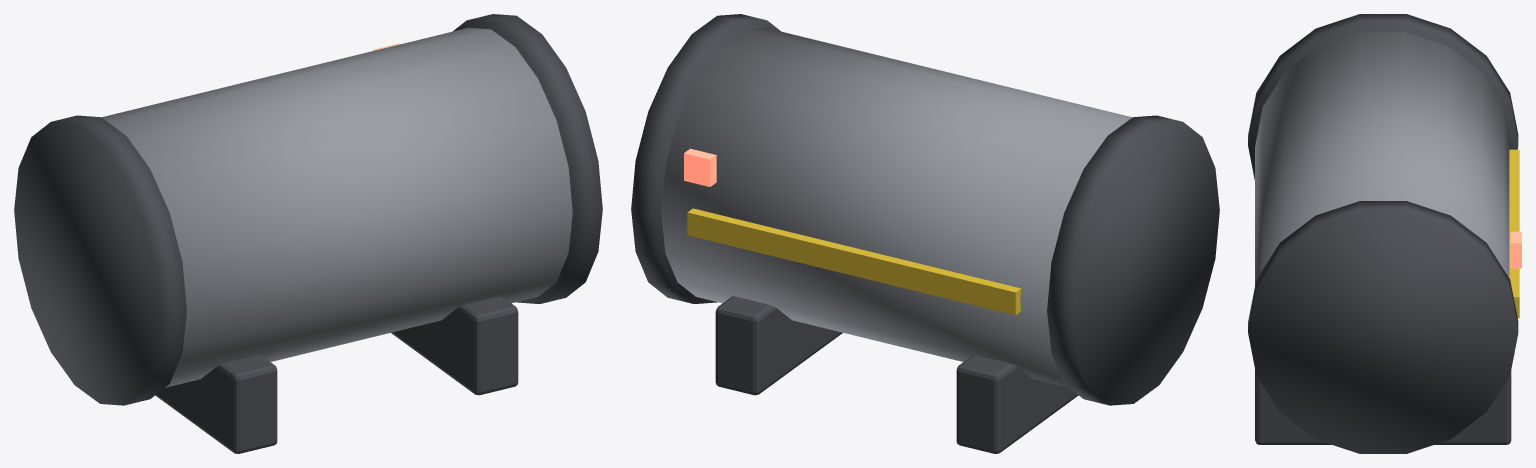
File: supply_pod.glb
The picture shows the model from 3 angles, left to right: view 1: azimuth 30°, elevation 25°; view 2: azimuth 150°, elevation 25°; view 3: azimuth 270°, elevation 25°; orthographic projection. The views are drawn at different scales.
Visible parts, largest first — view 1: supply_pod; view 2: supply_pod; view 3: supply_pod.
Part boxes in pixels (left/top/right/bottom): supply_pod: left=14, top=14, right=602, bottom=453; supply_pod: left=631, top=14, right=1219, bottom=453; supply_pod: left=1248, top=14, right=1521, bottom=453.
Bounding box in the file's own units: 2.02 × 1.28 × 1.17.
